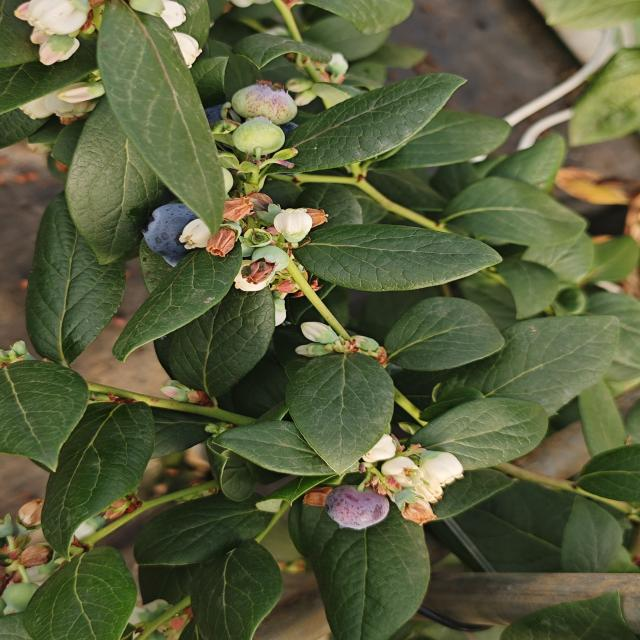ripe: (139, 203, 207, 263), (198, 92, 250, 136), (271, 118, 310, 159)
